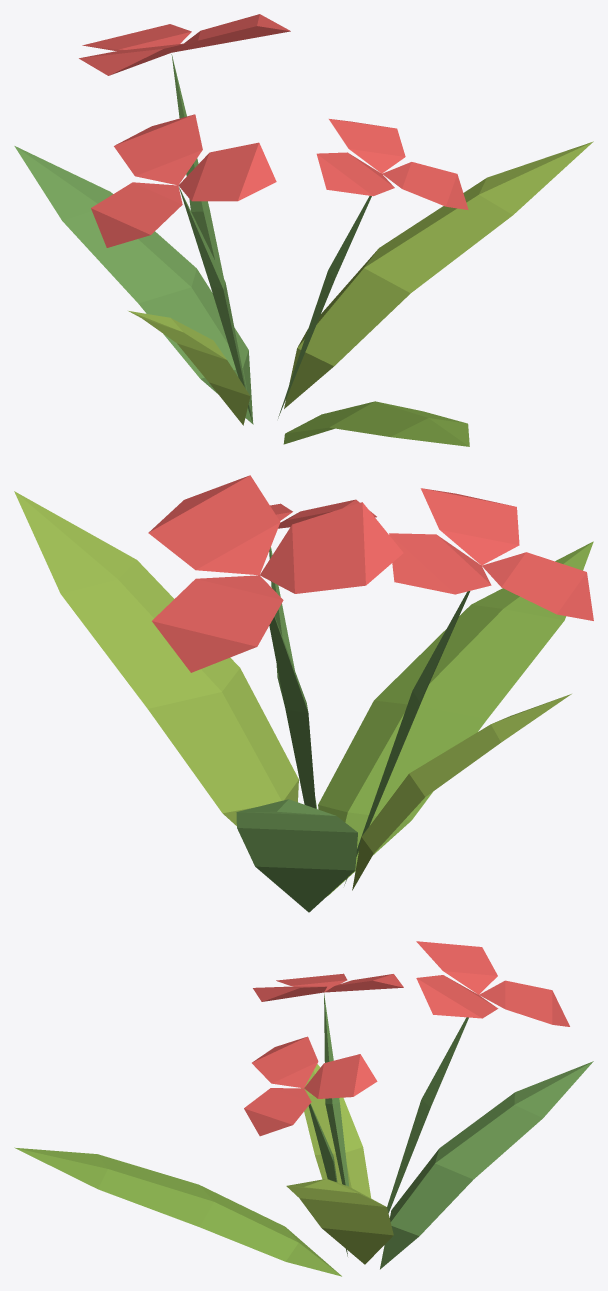
File: flowers3.glb
The picture shows the model from 3 angles, top to bottom: view 1: azimuth 30°, elevation 25°; view 2: azimuth 150°, elevation 25°; view 3: azimuth 270°, elevation 25°; orthographic projection. The views are drawn at different scales.
Visible parts, largest first — view 1: flowers3; view 2: flowers3; view 3: flowers3.
Part boxes in pixels (x1,y1,x2,y2): flowers3: [14, 14, 593, 446]; flowers3: [14, 475, 593, 912]; flowers3: [14, 941, 593, 1276].
Size of the model in its own units: 2.03 by 1.52 by 2.61.
1 material, 1 textured.
